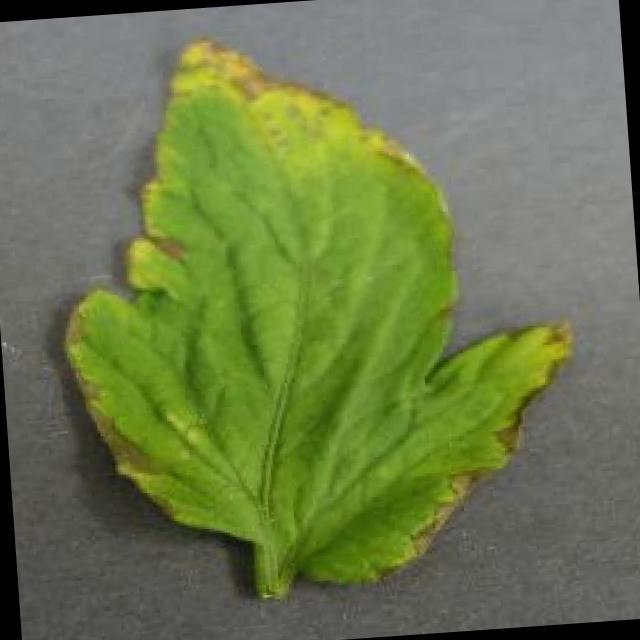Tomato bacterial spot leaf: (44, 6, 592, 609)
